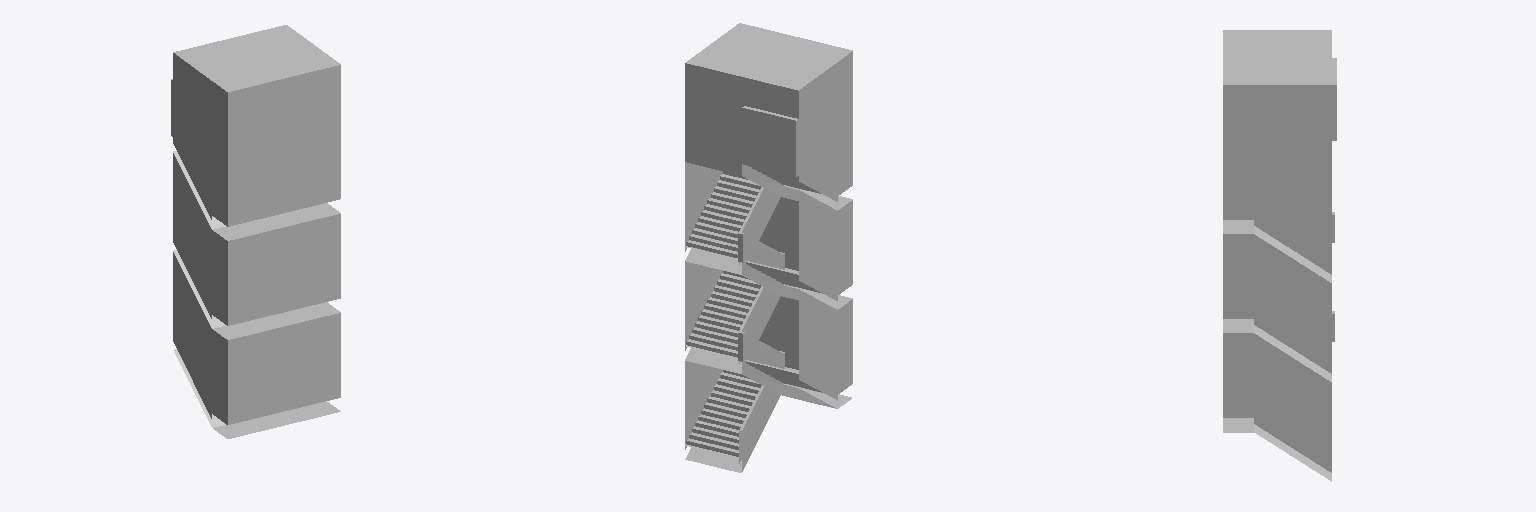
Rendered from hor1 stairs.obj.
3 renders of one model, left to right at view 1: azimuth 30°, elevation 25°; view 2: azimuth 150°, elevation 25°; view 3: azimuth 270°, elevation 25°, orthographic.
Visible parts, largest first — view 1: stairs_Plane.003; view 2: stairs_Plane.003, stairs.001_Plane.012; view 3: stairs_Plane.003.
Part boxes in pixels (x1,y1,x2,y2): stairs_Plane.003: (171,25,340,438); stairs_Plane.003: (685,23,852,472); stairs.001_Plane.012: (685,165,822,458); stairs_Plane.003: (1223,30,1336,481).
Size of the model in its own units: 4.2 by 14 by 3.65.